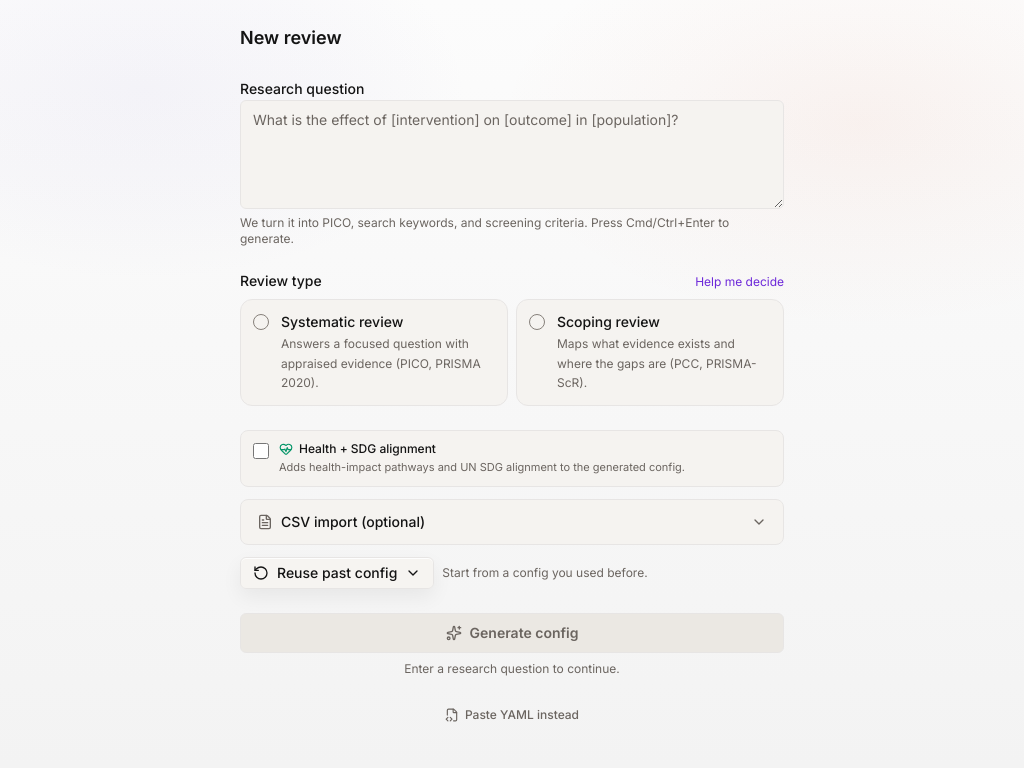
Test: SetupView › shows the reuse control with an empty hint when there is no history
Click the button "Reuse past config": (337, 573) 240,557 -> 434,589
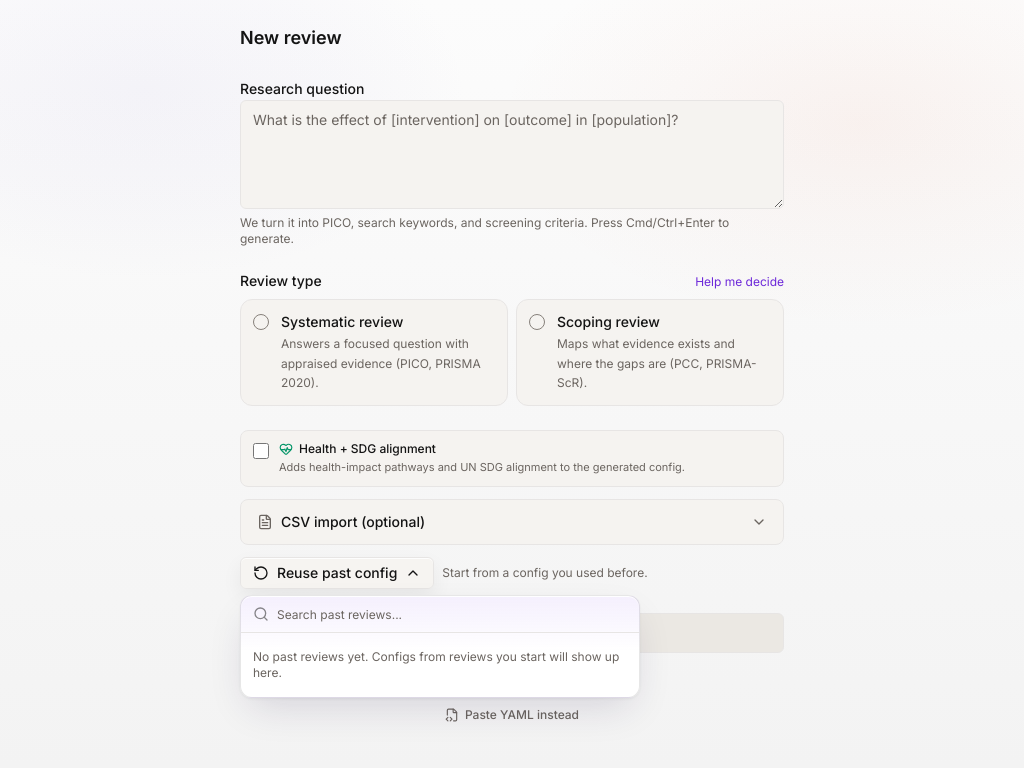
Expected: the text "No past reviews yet" is shown, 253,649 -> 619,680
Press Escape
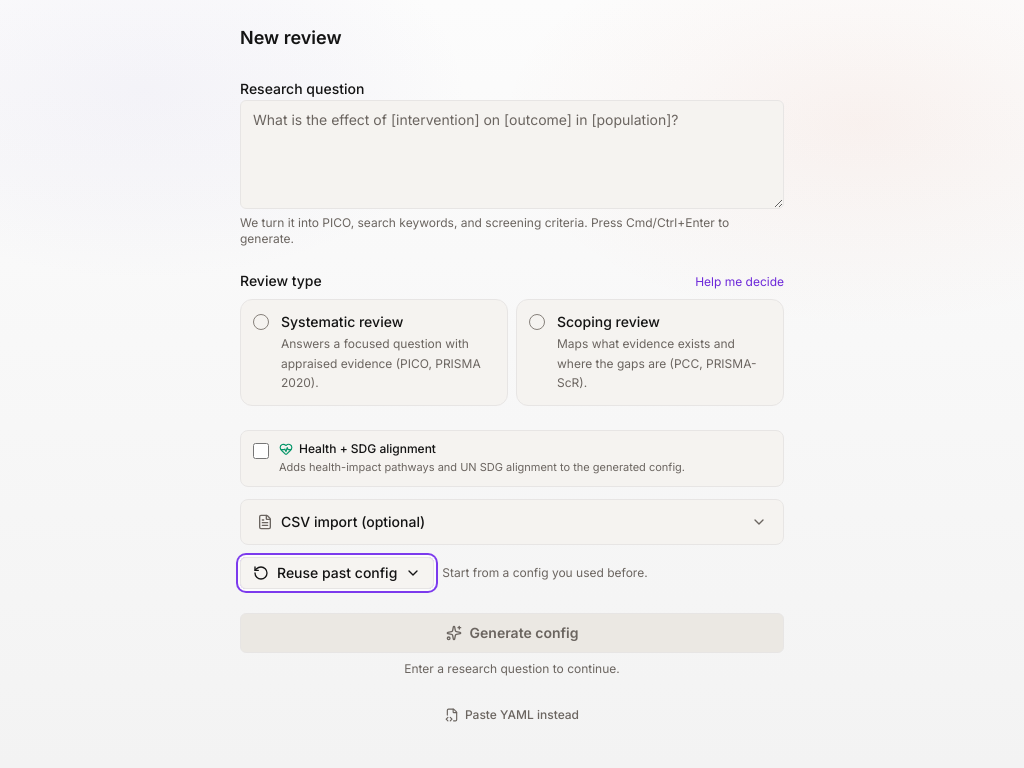
Expected: the text "No past reviews yet" is gone
